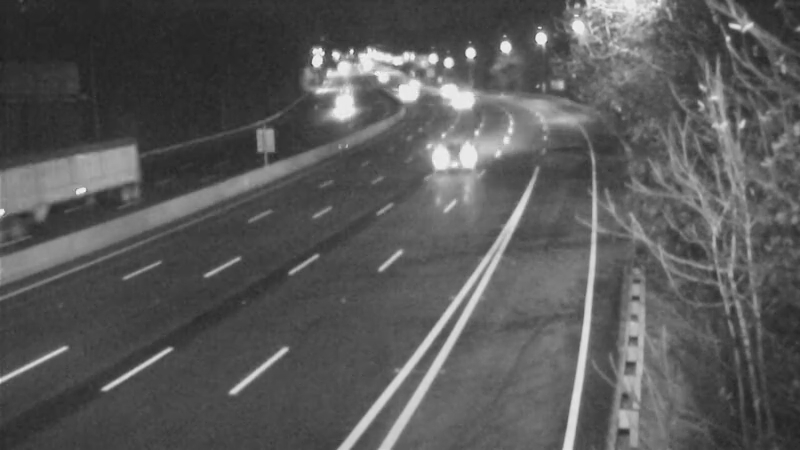vehicle: (407, 120, 487, 200), (23, 158, 103, 238), (419, 64, 469, 114), (383, 70, 433, 120), (438, 81, 488, 131), (318, 82, 368, 132)
